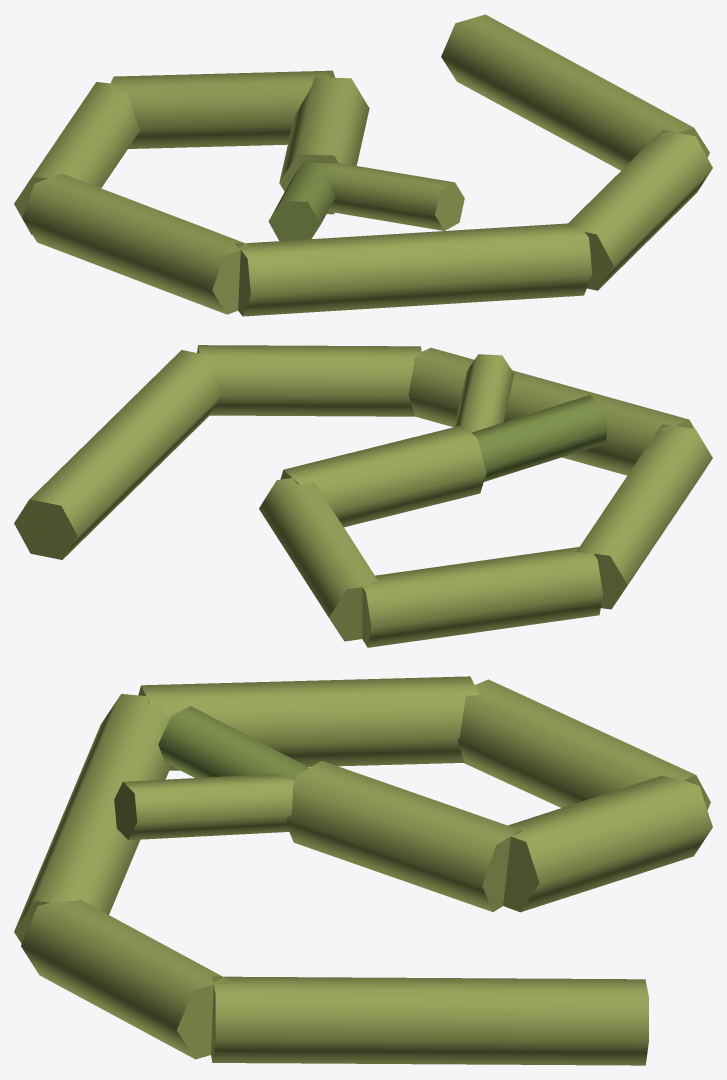
The model's file is spread-portable-choircutting.fbx.
3 renders of one model, top to bottom at view 1: azimuth 30°, elevation 25°; view 2: azimuth 150°, elevation 25°; view 3: azimuth 270°, elevation 25°, orthographic. The views are drawn at different scales.
Parts seen in each view (by area): view 1: spread-portable-choircutting__Geometry; view 2: spread-portable-choircutting__Geometry; view 3: spread-portable-choircutting__Geometry.
Boxes of the visible parts, x1,y1,x2,y2 form: spread-portable-choircutting__Geometry: [14, 14, 712, 316]; spread-portable-choircutting__Geometry: [14, 345, 712, 647]; spread-portable-choircutting__Geometry: [14, 676, 712, 1065].
Size of the model in its own units: 0.4594 by 0.083 by 0.4033.
